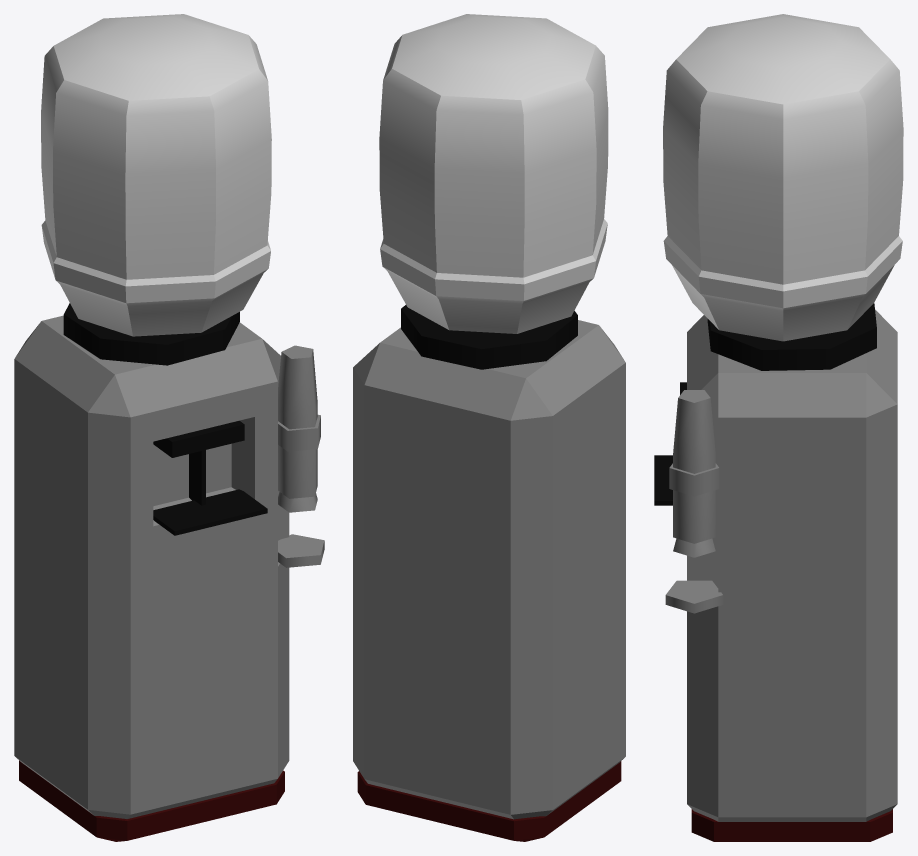
Rendered from WaterCooler_01.fbx.
3 renders of one model, left to right at view 1: azimuth 30°, elevation 25°; view 2: azimuth 150°, elevation 25°; view 3: azimuth 270°, elevation 25°, orthographic.
Parts seen in each view (by area): view 1: WaterCooler-Body_01, WaterCooler-Bottle_01; view 2: WaterCooler-Body_01, WaterCooler-Bottle_01; view 3: WaterCooler-Body_01, WaterCooler-Bottle_01.
Part boxes in pixels (x1,y1,x2,y2): WaterCooler-Body_01: (14, 303, 324, 841); WaterCooler-Bottle_01: (41, 14, 271, 336); WaterCooler-Body_01: (353, 305, 625, 841); WaterCooler-Bottle_01: (379, 14, 608, 333); WaterCooler-Body_01: (654, 303, 897, 841); WaterCooler-Bottle_01: (663, 14, 903, 341).
Bounding box in the file's own units: 0.5028 × 1.6 × 0.4739.
